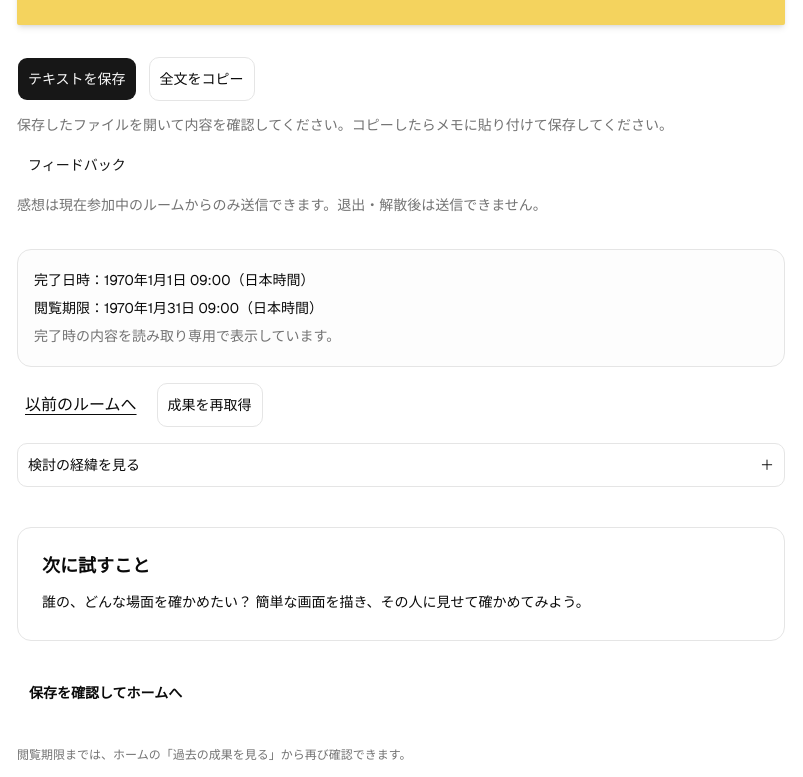
本人の完了ルーム › 本人権限を失った再取得では前回本文を残さない
Click the button "成果を再取得" at (210, 405), box top-left (156, 383), bottom-right (262, 427)
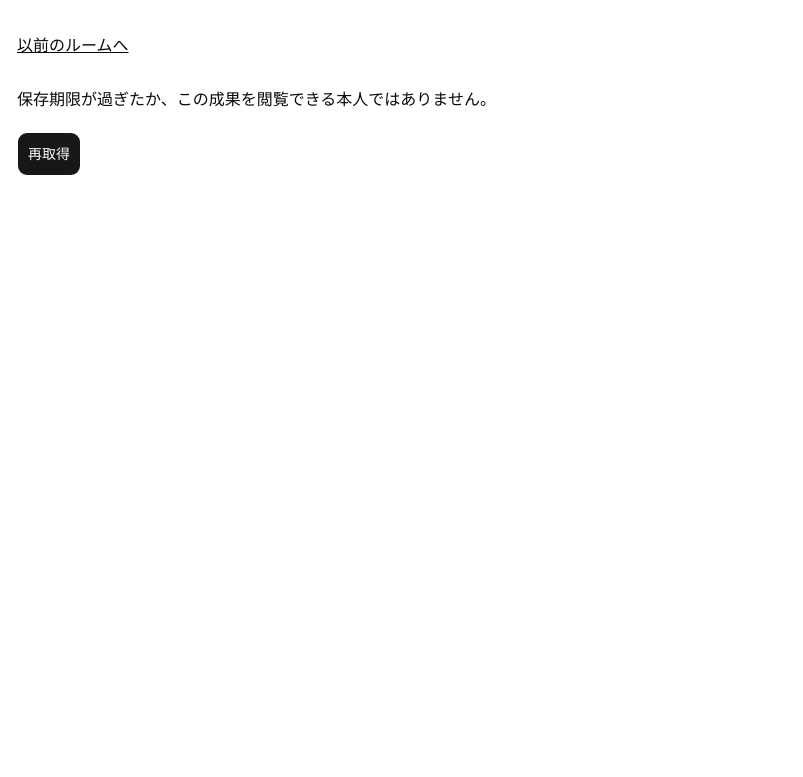
Expected: the message "保存期限が過ぎたか、この成果を閲覧できる本人ではありません。" is shown, top-left (17, 89), bottom-right (496, 110)
Expected: the button "フィードバック" is gone
